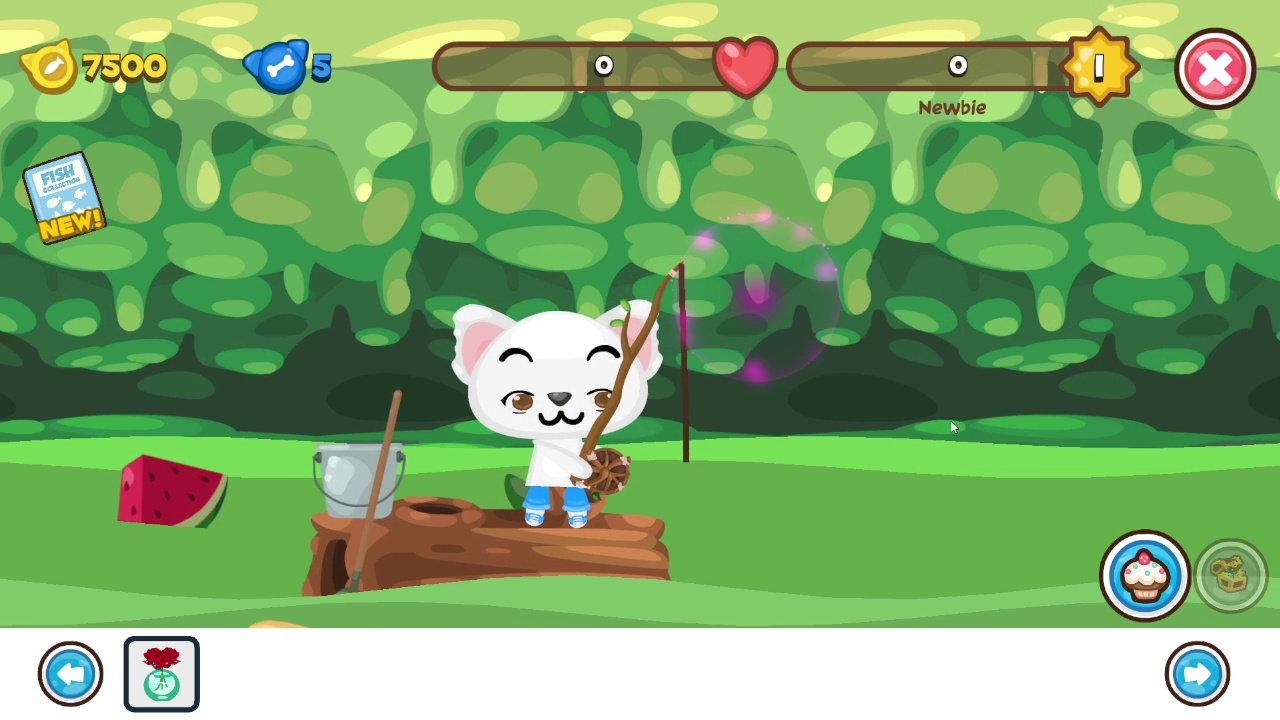point: (674, 206, 844, 384)
